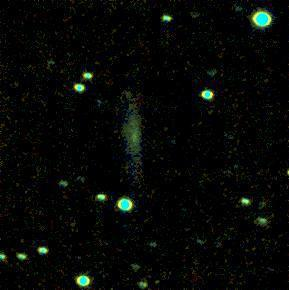star: (231, 188, 261, 218)
